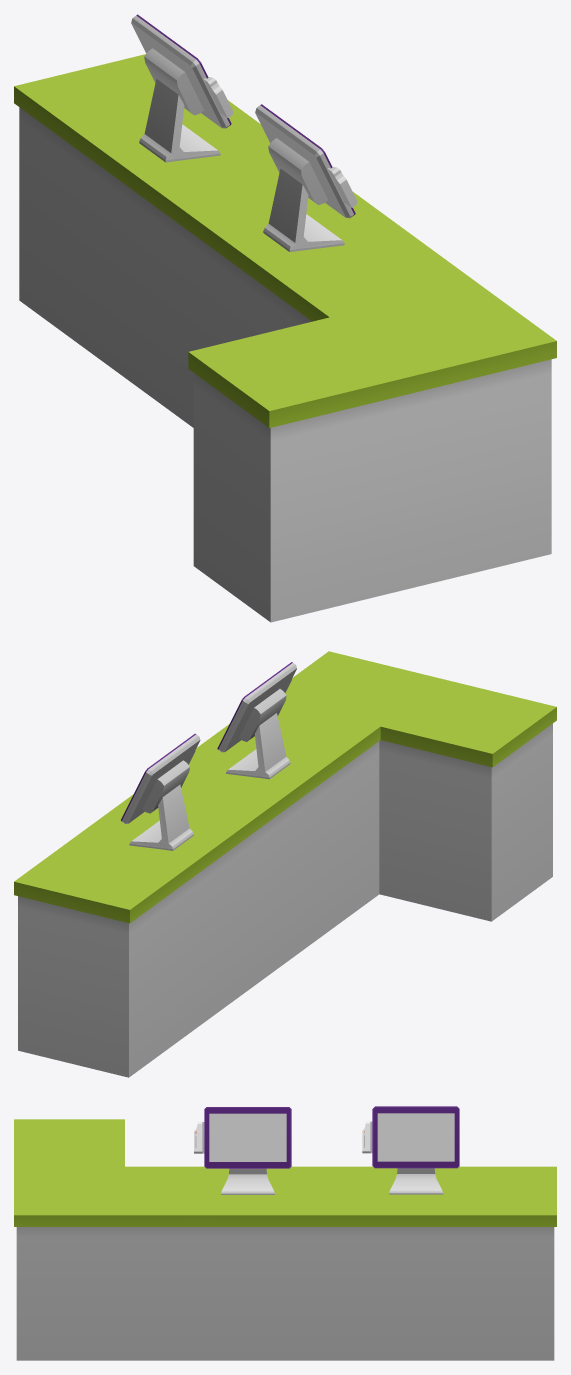
File: CR_CU_Store_counter_001.FBX
The picture shows the model from 3 angles, top to bottom: view 1: azimuth 30°, elevation 25°; view 2: azimuth 150°, elevation 25°; view 3: azimuth 270°, elevation 25°; orthographic projection. The views are drawn at different scales.
Visible parts, largest first — view 1: CR_CU_Store_counter_001, HG_CU_Counter_A001, HG_CU_Counter_B001; view 2: CR_CU_Store_counter_001, HG_CU_Counter_A001, HG_CU_Counter_B001; view 3: CR_CU_Store_counter_001, HG_CU_Counter_A_Screen001, HG_CU_Counter_B_Screen001, HG_CU_Counter_A001, HG_CU_Counter_B001.
Boxes of the visible parts, x1=… form: CR_CU_Store_counter_001: x1=14, y1=54, x2=556, y2=622; HG_CU_Counter_A001: x1=131, y1=14, x2=233, y2=162; HG_CU_Counter_B001: x1=255, y1=104, x2=357, y2=251; CR_CU_Store_counter_001: x1=14, y1=651, x2=556, y2=1077; HG_CU_Counter_A001: x1=121, y1=733, x2=200, y2=850; HG_CU_Counter_B001: x1=217, y1=662, x2=296, y2=779; CR_CU_Store_counter_001: x1=14, y1=1119, x2=556, y2=1360; HG_CU_Counter_A_Screen001: x1=377, y1=1113, x2=454, y2=1161; HG_CU_Counter_B_Screen001: x1=209, y1=1113, x2=286, y2=1161; HG_CU_Counter_A001: x1=362, y1=1106, x2=459, y2=1194; HG_CU_Counter_B001: x1=194, y1=1107, x2=291, y2=1194.
Bounding box in the file's own units: 86.19 × 93.46 × 206.
